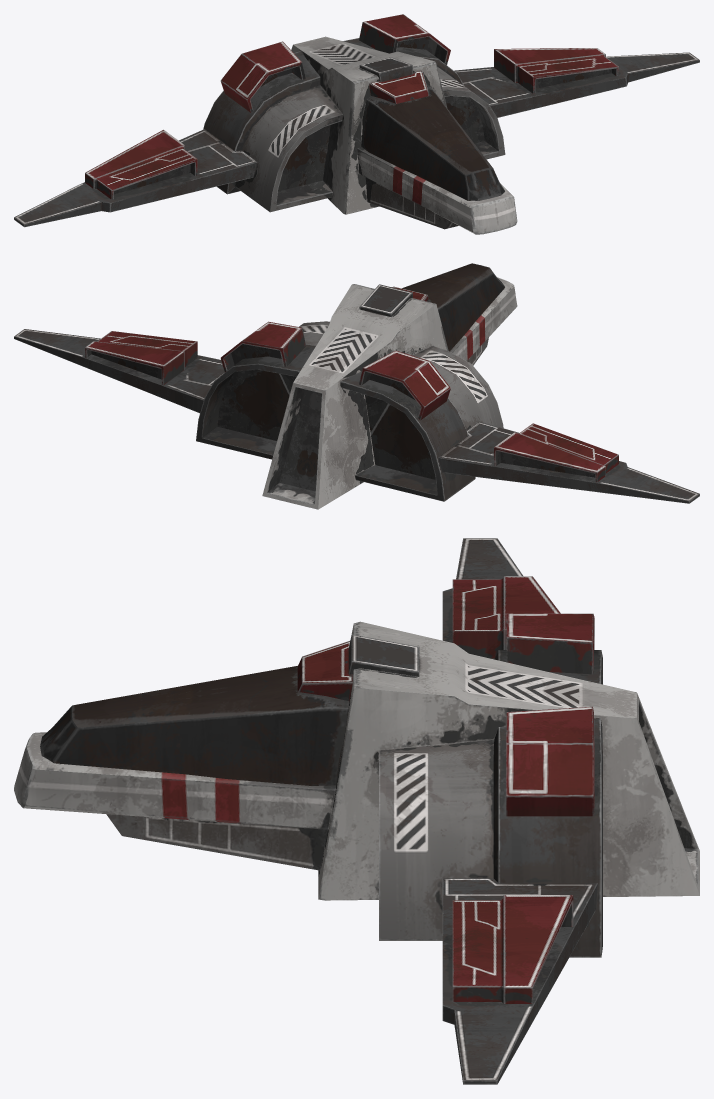
File: bob.glb
3 views of the same model, one above another, from view 1: azimuth 30°, elevation 25°; view 2: azimuth 150°, elevation 25°; view 3: azimuth 270°, elevation 25° (orthographic). The views are drawn at different scales.
Parts seen in each view (by area): view 1: Bob; view 2: Bob; view 3: Bob.
Boxes of the visible parts, x1,y1,x2,y2 form: Bob: [14, 14, 699, 234]; Bob: [14, 263, 699, 509]; Bob: [14, 538, 699, 1084].
Bounding box in the file's own units: 10.5 × 2.04 × 5.61.
1 material, 1 textured.
